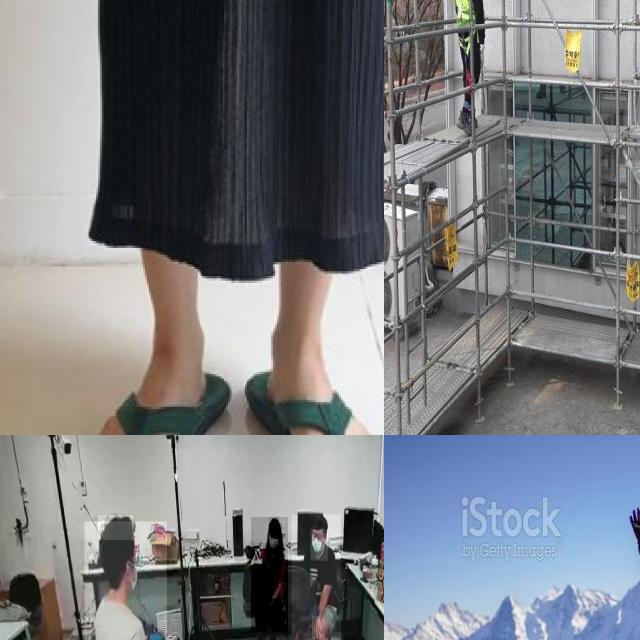Sandals: (245, 313, 384, 435), (68, 346, 233, 435)
face_mask: (310, 530, 328, 560), (268, 524, 282, 554)
hand_noglove: (312, 616, 322, 640)
head_nohelmet: (98, 515, 134, 541), (312, 512, 328, 528), (268, 517, 280, 528)
person: (84, 521, 167, 640), (291, 514, 341, 640), (251, 517, 289, 633)
